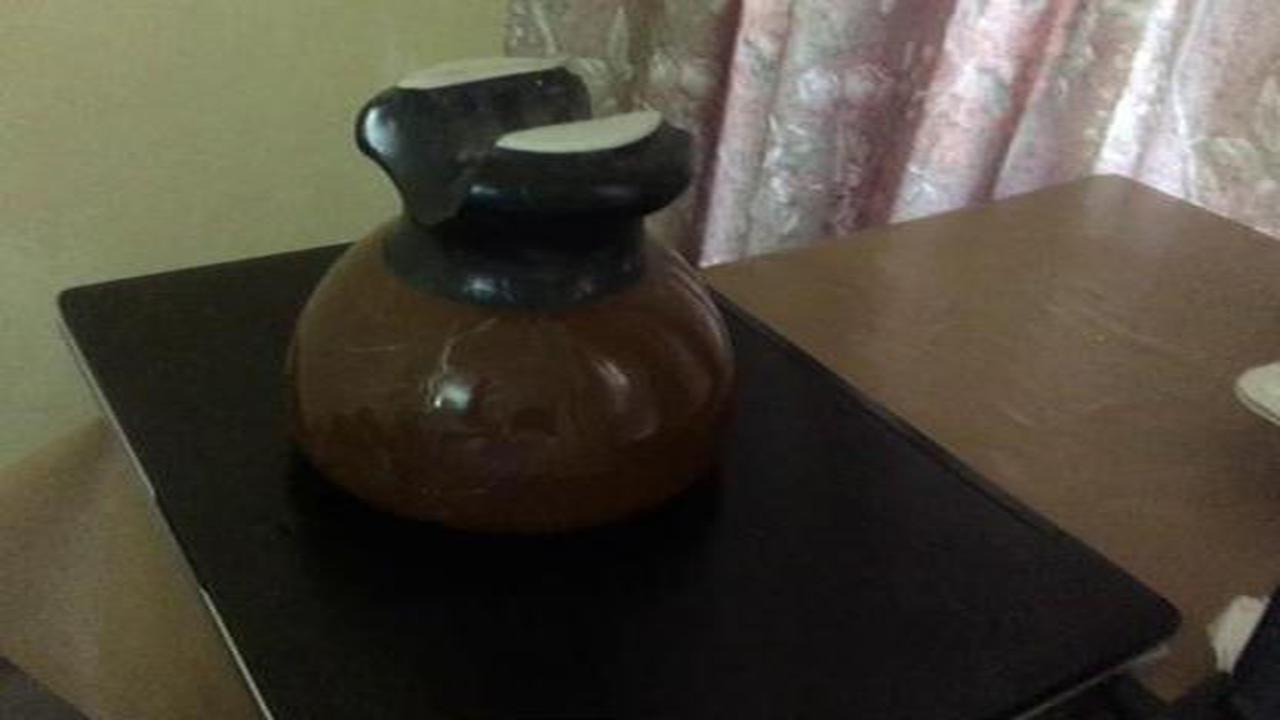insulator_pin: (264, 49, 764, 547)
